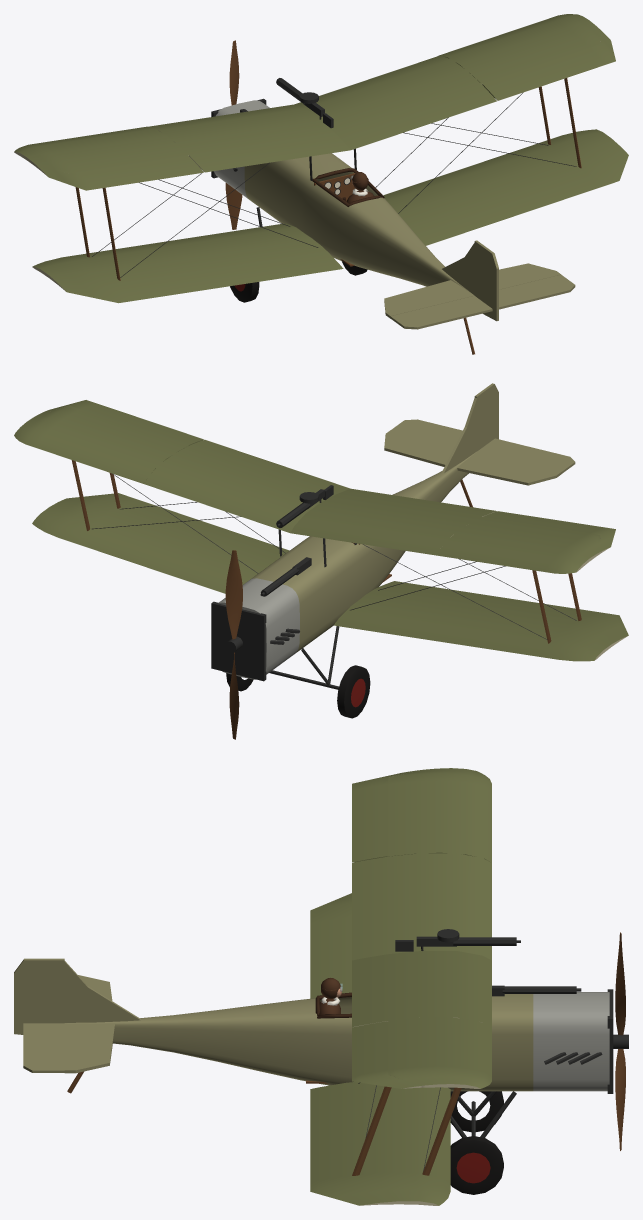
3 views of the same model, one above another, from view 1: azimuth 30°, elevation 25°; view 2: azimuth 150°, elevation 25°; view 3: azimuth 270°, elevation 25° (orthographic). The views are drawn at different scales.
Visible parts, largest first — view 1: Wing_Upper_R, Wing_Lower_L, Wing_Lower_R, Fuselage, Wing_Upper_L, Elevator, Aileron_R, Aileron_L, Stabilizer_L, Rudder, Wires, Struts (+7 smaller); view 2: Wing_Upper_R, Wing_Upper_L, Wing_Lower_L, Wing_Lower_R, Fuselage, Engine, Elevator, Stabilizer_L, PropBlades, Wheels, Stabilizer_R, Aileron_R (+7 smaller); view 3: Fuselage, Wing_Upper_L, Wing_Upper_R, Wing_Lower_R, Wing_Lower_L, Wheels, Rudder, Aileron_L, Aileron_R, Stabilizer_R, Fin, Guns (+6 smaller).
Part boxes in pixels (bbox=[...]): Wing_Upper_R: bbox=[295, 14, 601, 149]; Wing_Lower_L: bbox=[32, 223, 343, 303]; Wing_Lower_R: bbox=[383, 129, 628, 245]; Fuselage: bbox=[214, 100, 474, 295]; Wing_Upper_L: bbox=[14, 104, 350, 173]; Elevator: bbox=[390, 274, 575, 329]; Aileron_R: bbox=[482, 31, 615, 100]; Aileron_L: bbox=[39, 155, 203, 190]; Stabilizer_L: bbox=[384, 280, 474, 318]; Rudder: bbox=[474, 240, 498, 321]; Wires: bbox=[92, 92, 576, 277]; Struts: bbox=[75, 78, 581, 280]; Wing_Upper_R: bbox=[14, 406, 350, 532]; Wing_Upper_L: bbox=[290, 488, 601, 573]; Wing_Lower_L: bbox=[334, 581, 628, 661]; Wing_Lower_R: bbox=[32, 493, 289, 593]; Fuselage: bbox=[218, 452, 475, 679]; Engine: bbox=[211, 601, 299, 681]; Elevator: bbox=[391, 419, 575, 473]; Stabilizer_L: bbox=[457, 451, 561, 485]; PropBlades: bbox=[225, 550, 242, 739]; Wheels: bbox=[226, 665, 370, 718]; Stabilizer_R: bbox=[384, 430, 454, 466]; Aileron_R: bbox=[41, 400, 203, 445]; Fuselage: bbox=[67, 992, 609, 1091]; Wing_Upper_L: bbox=[352, 768, 491, 960]; Wing_Upper_R: bbox=[352, 950, 491, 1088]; Wing_Lower_R: bbox=[310, 1082, 450, 1205]; Wing_Lower_L: bbox=[310, 893, 351, 998]; Wheels: bbox=[450, 1091, 503, 1194]; Rudder: bbox=[14, 958, 64, 1034]; Aileron_L: bbox=[352, 770, 420, 862]; Aileron_R: bbox=[352, 1021, 421, 1088]; Stabilizer_R: bbox=[64, 1023, 114, 1073]; Fin: bbox=[64, 961, 140, 1022]; Guns: bbox=[395, 929, 581, 996].
Size of the model in its own units: 8.11 by 2.87 by 6.67.
